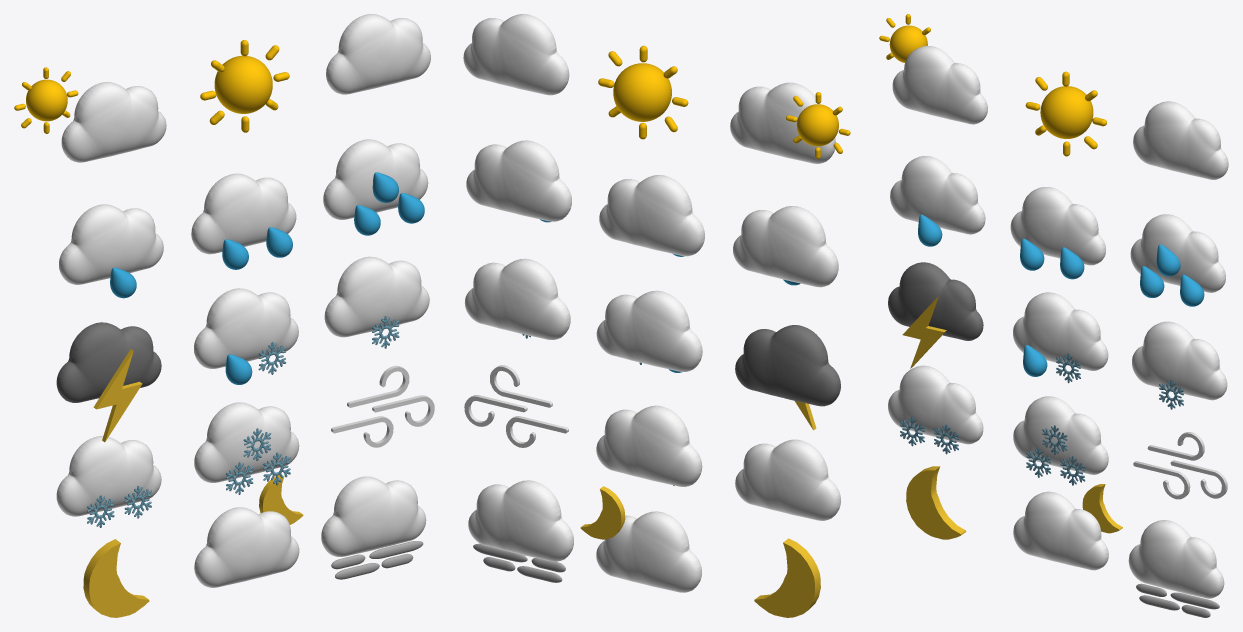
The model's file is 3d_weather_icons.glb.
3 views of the same model, side by side, from view 1: azimuth 30°, elevation 25°; view 2: azimuth 150°, elevation 25°; view 3: azimuth 330°, elevation 25° (orthographic). The views are drawn at different scales.
Parts seen in each view (by area): view 1: Object_37, Object_23, Object_33, Object_17, Object_41, Object_29, Object_31, Object_5, Object_39, Object_27, Object_11, Object_35 (+15 smaller); view 2: Object_31, Object_39, Object_17, Object_27, Object_35, Object_11, Object_5, Object_33, Object_41, Object_29, Object_23, Object_37 (+7 smaller); view 3: Object_23, Object_17, Object_37, Object_33, Object_29, Object_41, Object_5, Object_31, Object_39, Object_11, Object_27, Object_35 (+15 smaller).
Boxes of the visible parts, x1,y1,x2,y2 form: Object_37: (61, 82, 166, 162); Object_23: (194, 507, 299, 587); Object_33: (326, 14, 430, 94); Object_17: (321, 476, 426, 556); Object_41: (59, 204, 163, 284); Object_29: (324, 256, 429, 337); Object_31: (194, 288, 298, 368); Object_5: (56, 436, 161, 516); Object_39: (191, 173, 296, 254); Object_27: (194, 402, 299, 482); Object_11: (56, 322, 161, 402); Object_35: (323, 139, 428, 219); Object_31: (596, 290, 702, 371); Object_39: (599, 175, 704, 256); Object_17: (468, 480, 573, 561); Object_27: (596, 405, 702, 486); Object_35: (466, 140, 571, 221); Object_11: (735, 325, 840, 406); Object_5: (735, 439, 840, 520); Object_33: (463, 14, 569, 95); Object_41: (733, 206, 838, 287); Object_29: (464, 258, 570, 339); Object_23: (596, 511, 701, 592); Object_37: (730, 82, 835, 163); Object_23: (1013, 491, 1108, 570); Object_17: (1128, 520, 1224, 598); Object_37: (892, 46, 987, 124); Object_33: (1133, 101, 1228, 179); Object_29: (1132, 321, 1227, 400); Object_41: (890, 156, 985, 234); Object_5: (888, 365, 983, 444); Object_31: (1013, 292, 1108, 370); Object_39: (1010, 187, 1105, 265); Object_11: (888, 262, 983, 340); Object_27: (1013, 396, 1108, 474); Object_35: (1130, 214, 1225, 292).
Bounding box in the file's own units: 1.22 × 1.65 × 0.2299.
Materials: 21 (21 with a texture image).
